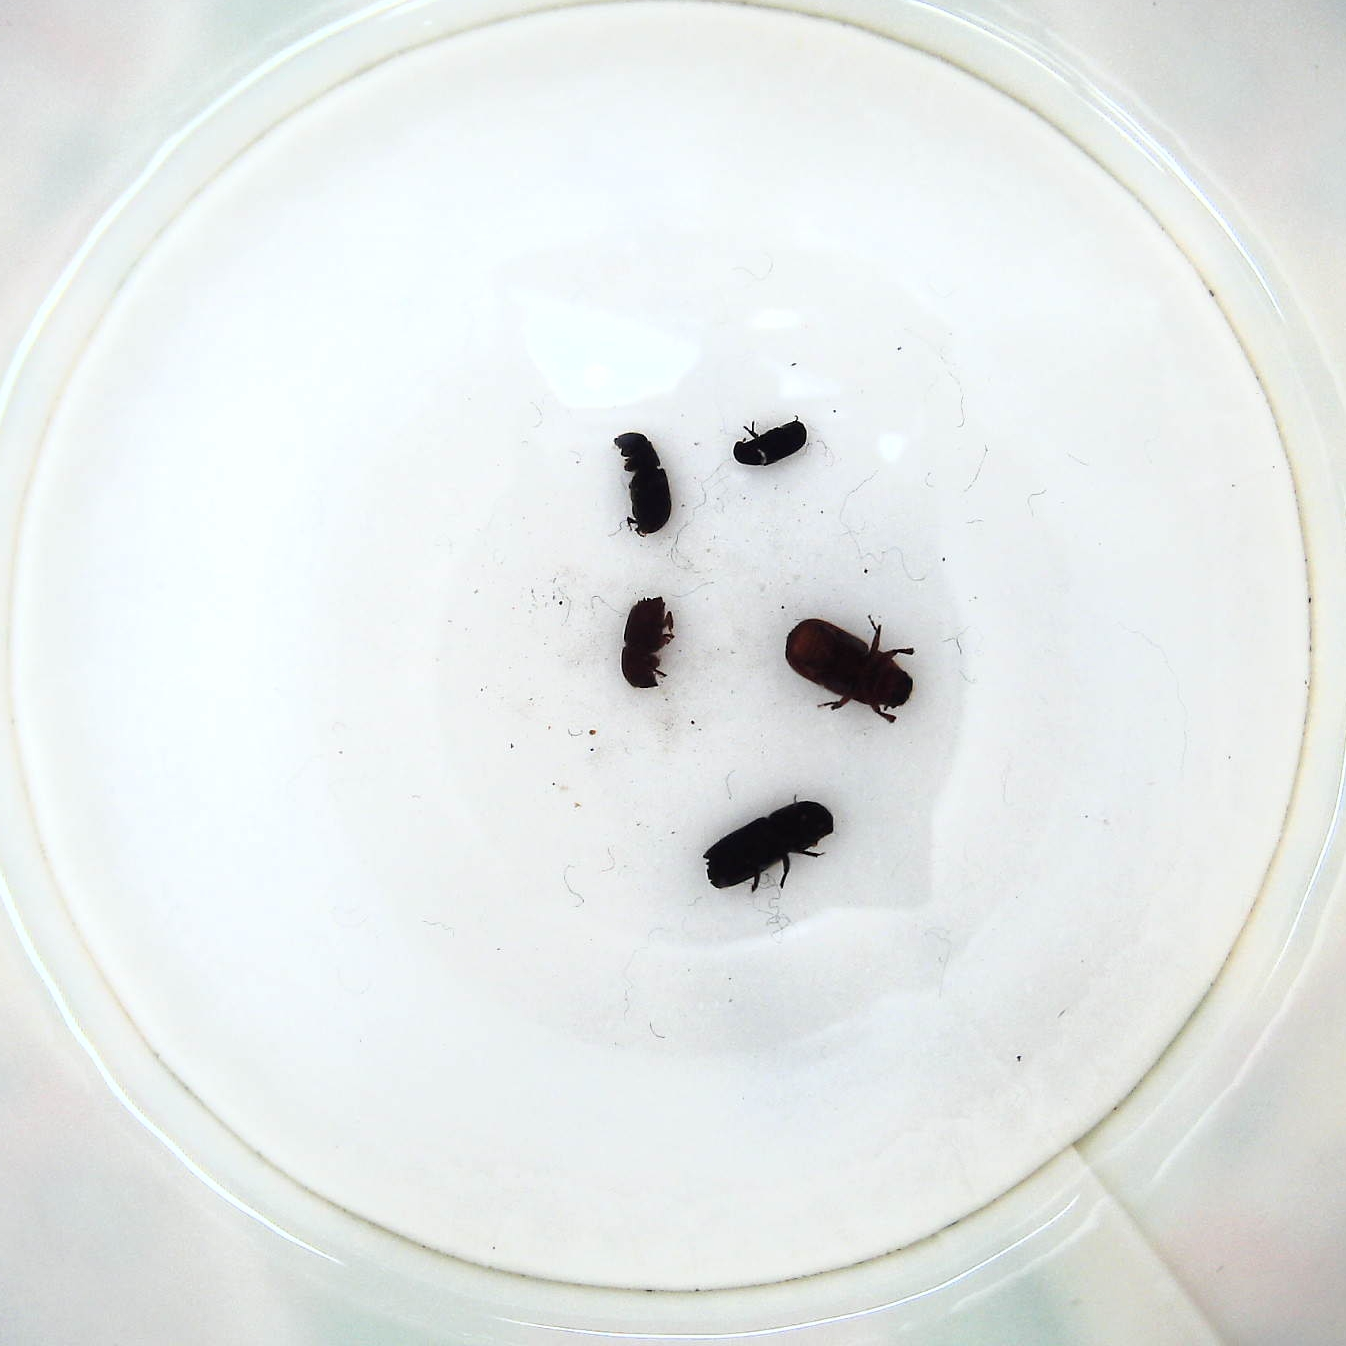Boerner: (703, 799, 842, 901)
Leconte: (783, 613, 924, 725)
armandi: (608, 425, 675, 540)
coleoptera: (725, 415, 815, 468)
linnaeus: (618, 594, 678, 696)
